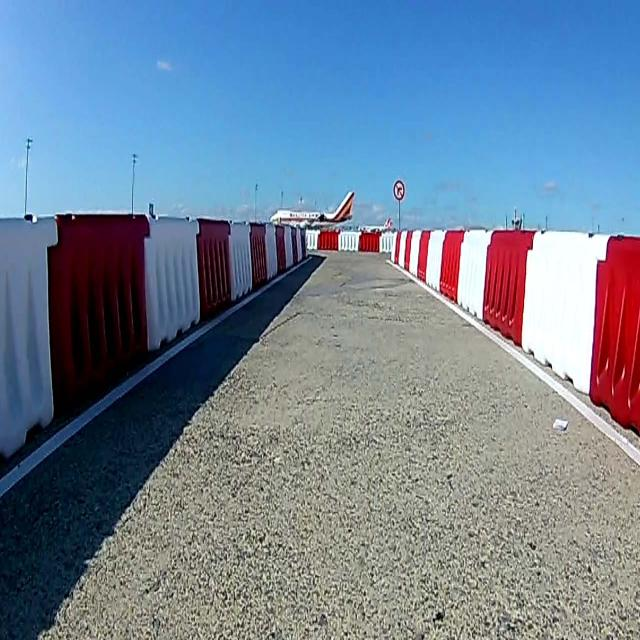sagadonulmez: (392, 179, 406, 201)
